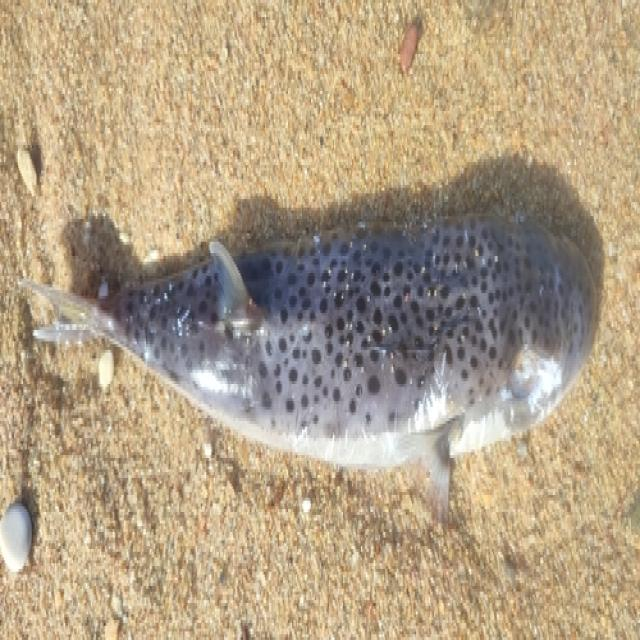Balik: (24, 217, 596, 517)
